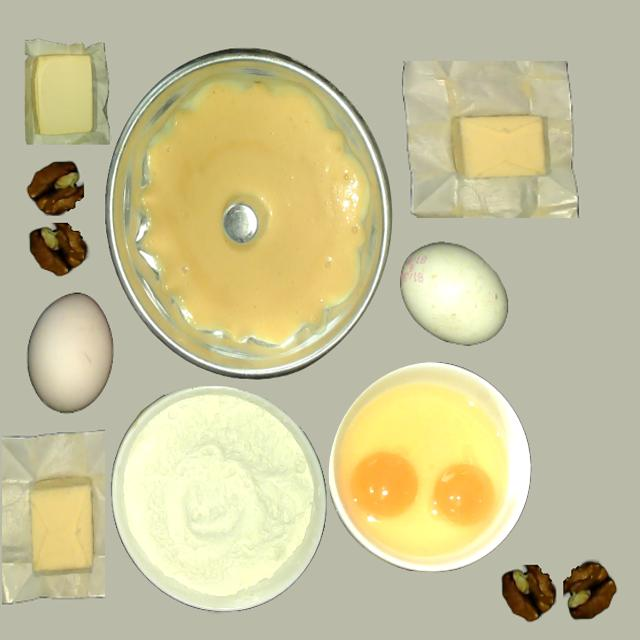Egg: (350, 451, 418, 520), (432, 463, 494, 526)
Flour: (110, 385, 322, 609)
